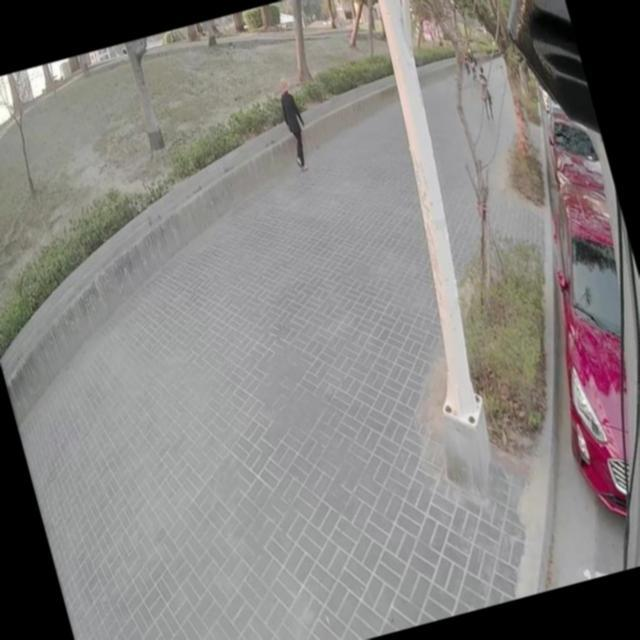person: (270, 76, 316, 172), (469, 60, 498, 122)
